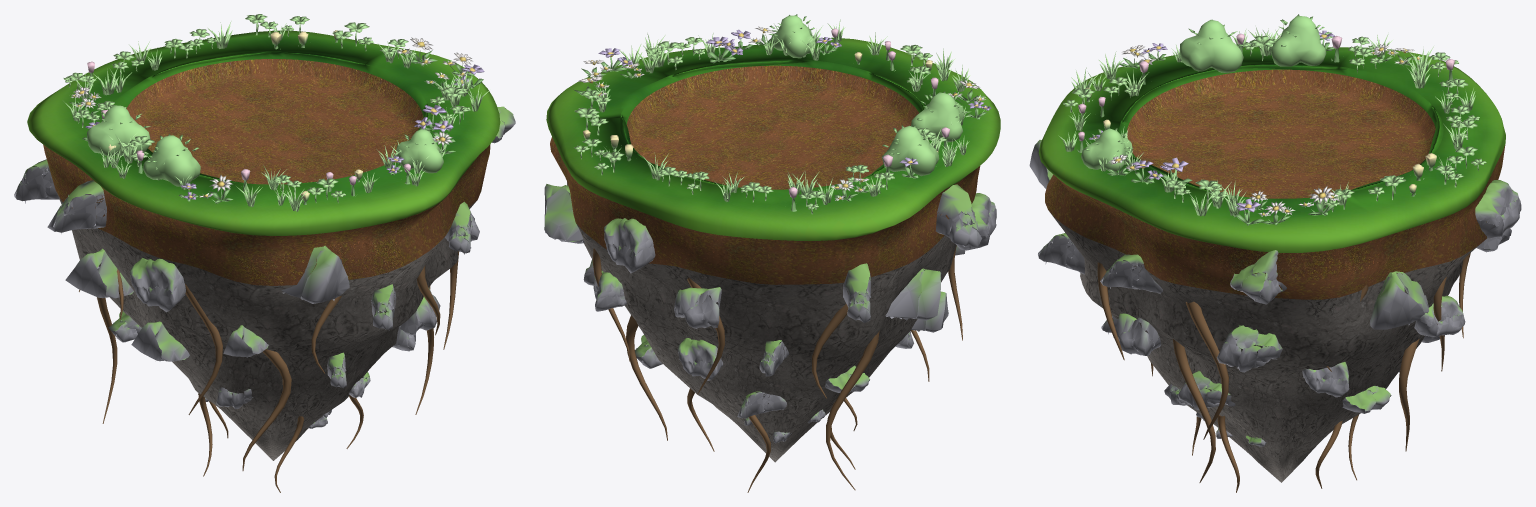
Rendered from meadow_island_round.glb.
The picture shows the model from 3 angles, left to right: view 1: azimuth 30°, elevation 25°; view 2: azimuth 150°, elevation 25°; view 3: azimuth 270°, elevation 25°; orthographic projection. The views are drawn at different scales.
Parts seen in each view (by area): view 1: island_body, cliff_block.018, cliff_block.015, cliff_block.013, bush, bush.001, cliff_block.012, cliff_block.014, bush.002, cliff_block.010, rim_root.002, cliff_block.017 (+8 smaller); view 2: island_body, cliff_block.005, cliff_block.013, cliff_block.012, bush.001, bush, cliff_block.002, cliff_block.007, cliff_block.010, bush.002, cliff_block.006, rim_root.001 (+8 smaller); view 3: island_body, cliff_block.002, bush, bush.001, cliff_block.025, cliff_block.005, cliff_block, bush.002, cliff_block.023, cliff_block.022, cliff_block.004, cliff_block.001 (+8 smaller).
Boxes of the visible parts, left/top/right/bottom form: island_body: left=27, top=30, right=500, bottom=460; cliff_block.018: left=281, top=245, right=349, bottom=303; cliff_block.015: left=130, top=258, right=185, bottom=312; cliff_block.013: left=47, top=180, right=106, bottom=233; bush: left=142, top=134, right=200, bottom=186; bush.001: left=87, top=105, right=150, bottom=156; cliff_block.012: left=65, top=248, right=133, bottom=298; cliff_block.014: left=131, top=321, right=189, bottom=361; bush.002: left=396, top=129, right=443, bottom=173; cliff_block.010: left=14, top=159, right=59, bottom=203; rim_root.002: left=242, top=349, right=291, bottom=470; cliff_block.017: left=223, top=325, right=268, bottom=357; island_body: left=546, top=37, right=1000, bottom=462; cliff_block.005: left=604, top=218, right=655, bottom=273; cliff_block.013: left=935, top=184, right=981, bottom=248; cliff_block.012: left=885, top=268, right=941, bottom=320; bush.001: left=881, top=124, right=939, bottom=176; bush: left=911, top=91, right=971, bottom=142; cliff_block.002: left=544, top=184, right=584, bottom=243; cliff_block.007: left=674, top=287, right=721, bottom=328; cliff_block.010: left=843, top=263, right=870, bottom=322; bush.002: left=769, top=14, right=815, bottom=58; cliff_block.006: left=677, top=338, right=723, bottom=380; rim_root.001: left=826, top=330, right=879, bottom=490; island_body: left=1038, top=46, right=1505, bottom=482; cliff_block.002: left=1370, top=271, right=1428, bottom=329; bush: left=1179, top=19, right=1243, bottom=72; bush.001: left=1270, top=14, right=1332, bottom=66; cliff_block.025: left=1216, top=325, right=1282, bottom=372; cliff_block.005: left=1475, top=180, right=1521, bottom=238; cliff_block: left=1230, top=250, right=1286, bottom=304; bush.002: left=1081, top=128, right=1132, bottom=172; cliff_block.023: left=1100, top=254, right=1162, bottom=293; cliff_block.022: left=1113, top=313, right=1161, bottom=355; cliff_block.004: left=1414, top=295, right=1465, bottom=337; cliff_block.001: left=1302, top=362, right=1349, bottom=397.
Size of the model in its own units: 14.95 by 12.33 by 13.91.
Materials: 12 (3 with a texture image).
